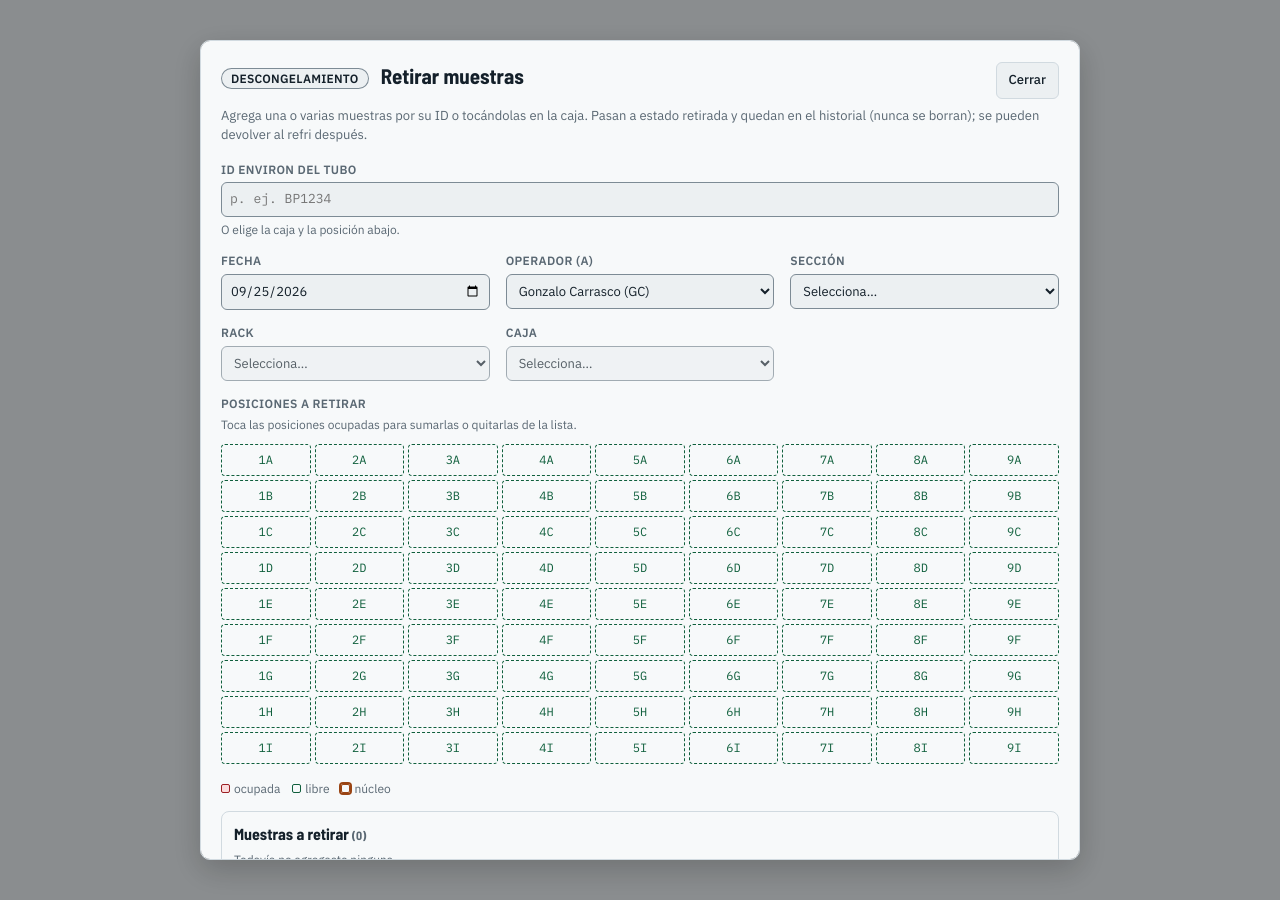
Test: ThawForm · partir por el ID del tubo (F2) › sin muestras activas con ese ID lo dice
Type "ZZ1" into the field labelled "ID Environ del tubo" at (640, 199), box [221,182,1059,217]
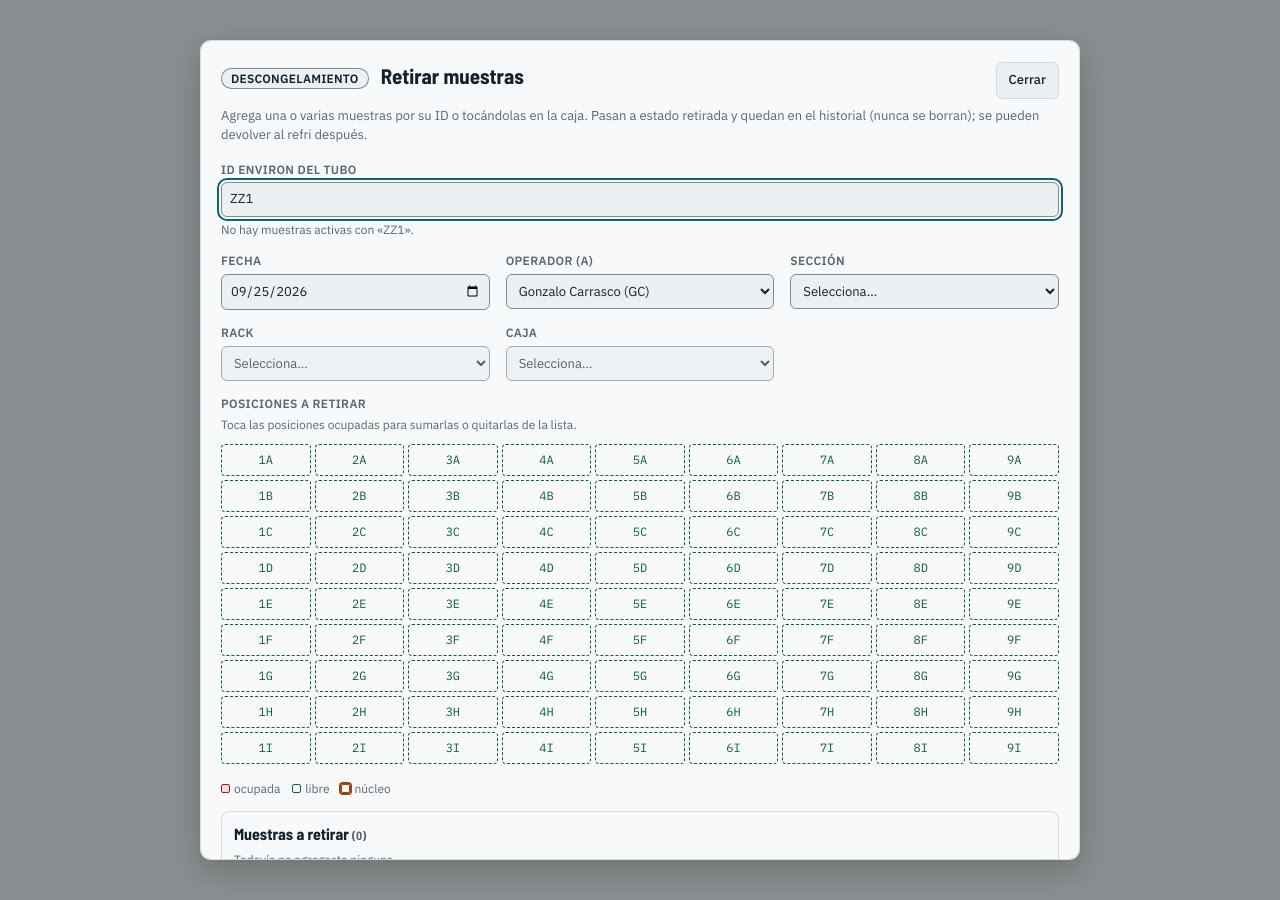
Now the text "No hay muestras activas con «ZZ1»." is shown, box [221,222,414,237]
